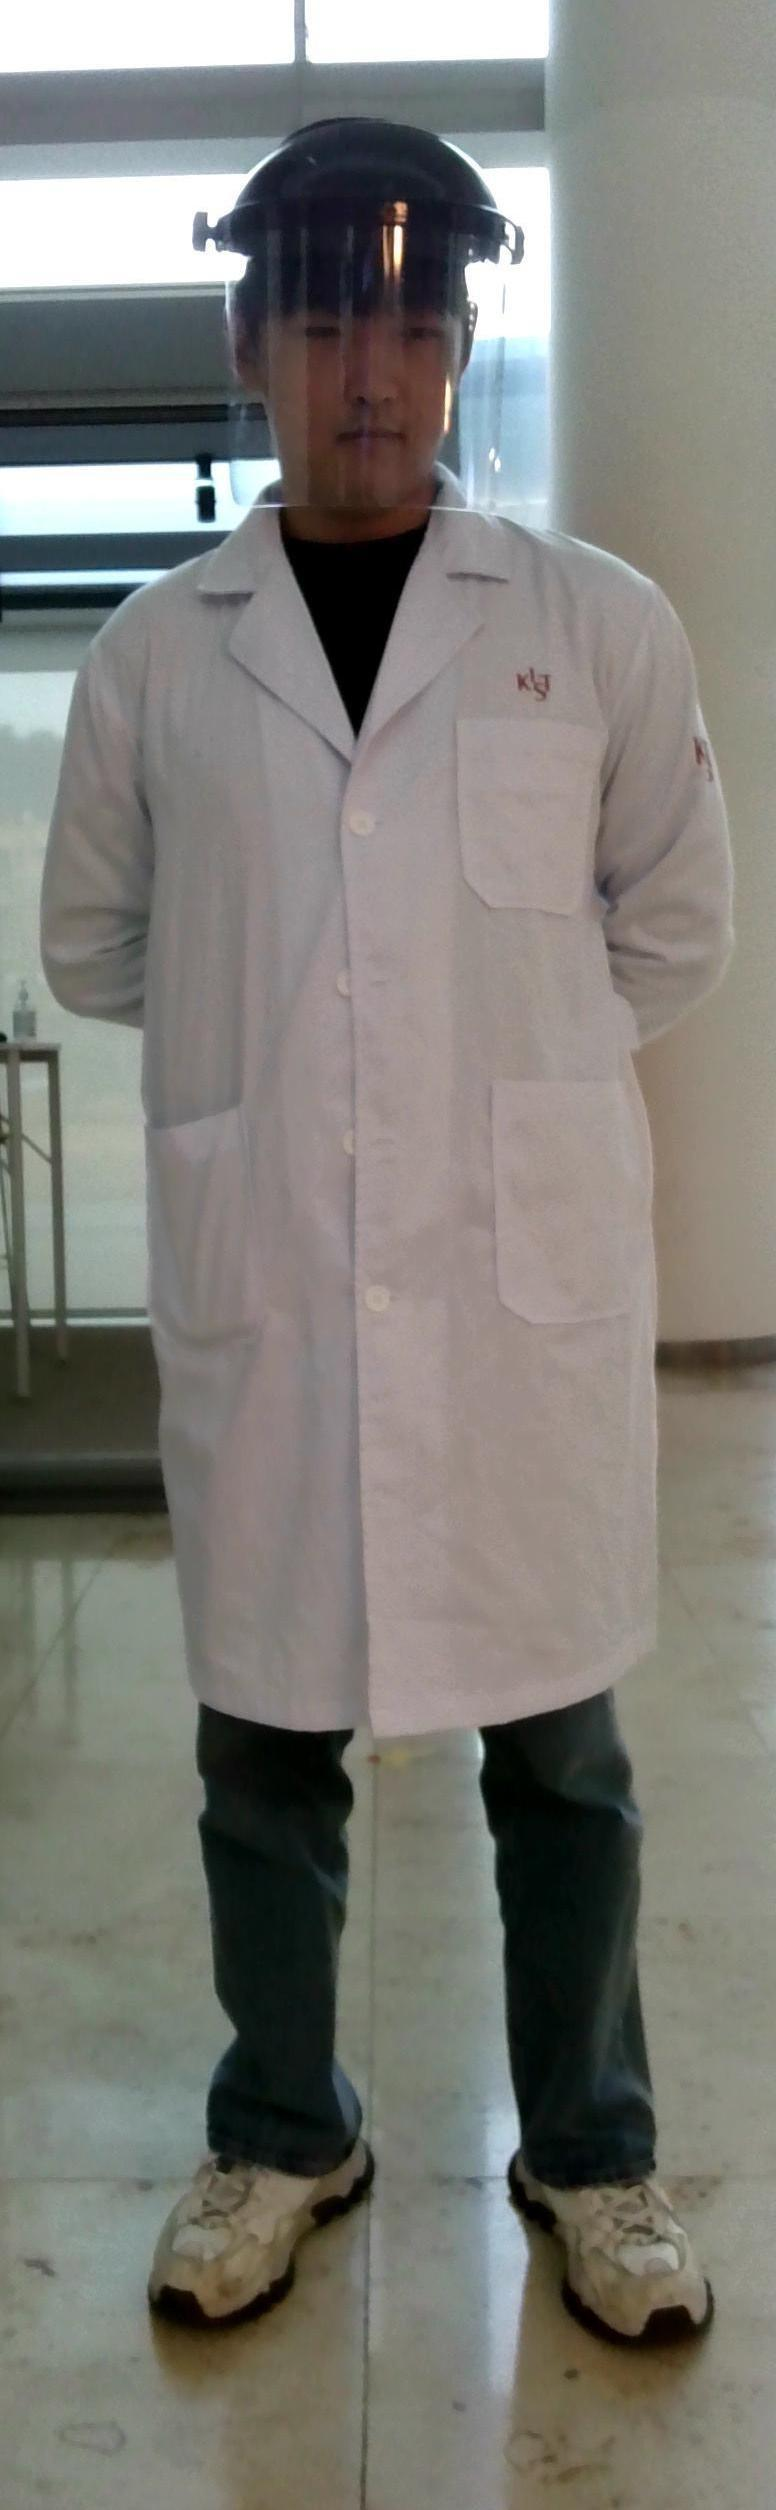lab_coat: (61, 571, 691, 1671)
